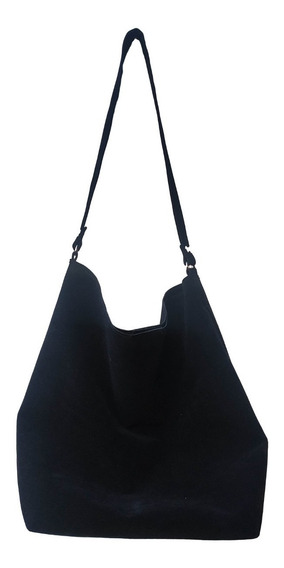cartera: (15, 27, 270, 541)
